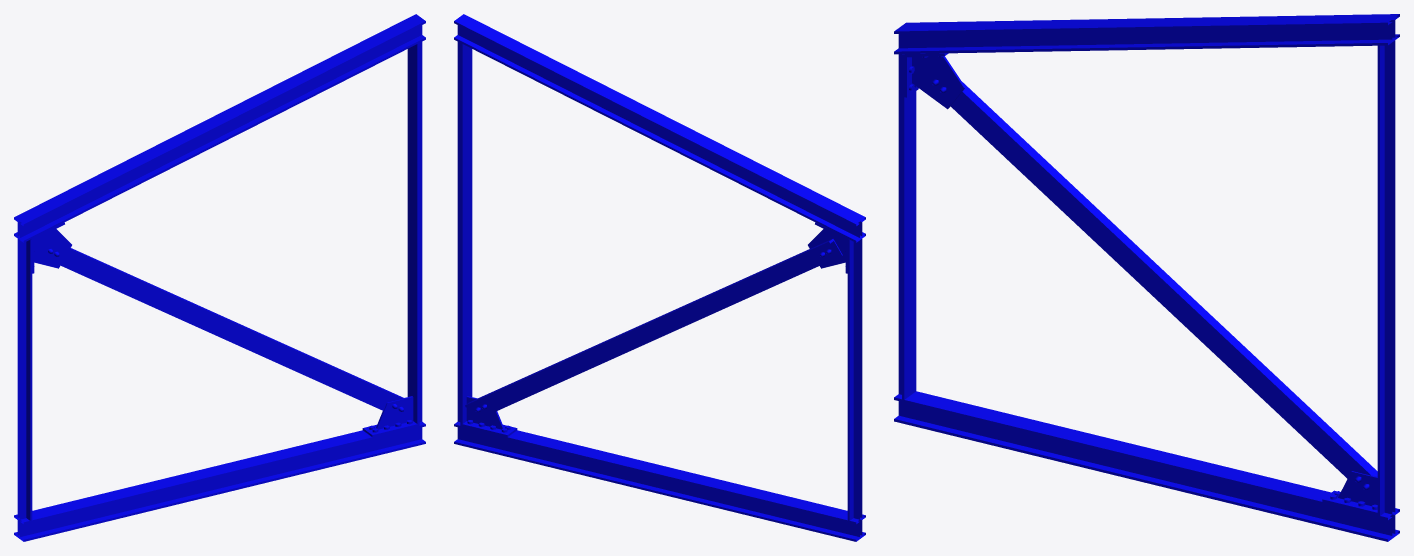
The model's file is Structure02_Roof04.fbx.
The picture shows the model from 3 angles, left to right: view 1: azimuth 30°, elevation 25°; view 2: azimuth 150°, elevation 25°; view 3: azimuth 330°, elevation 25°; orthographic projection. The views are drawn at different scales.
Visible parts, largest first — view 1: Structure02_Roof04_LOD0; view 2: Structure02_Roof04_LOD0; view 3: Structure02_Roof04_LOD0.
Boxes of the visible parts, bbox=[...] form: Structure02_Roof04_LOD0: bbox=[14, 14, 425, 541]; Structure02_Roof04_LOD0: bbox=[454, 14, 865, 541]; Structure02_Roof04_LOD0: bbox=[894, 14, 1399, 541].
Size of what is drawn, in the model's own units: 300 by 301 by 12.5.
